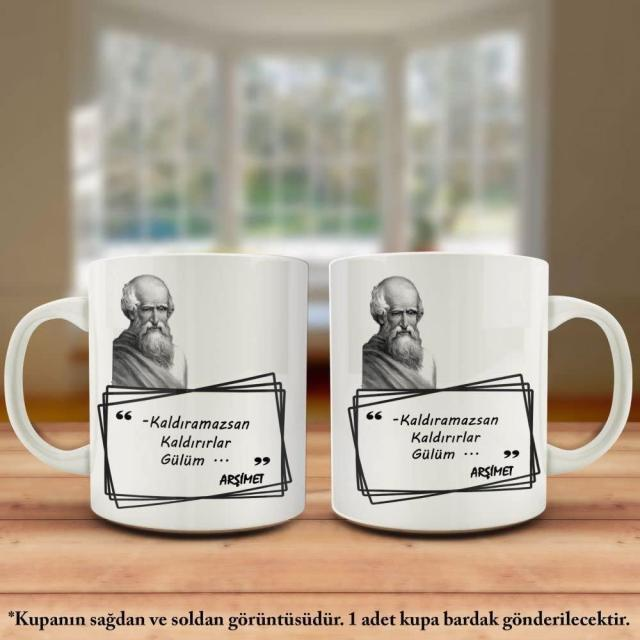Coffee Mug: (329, 249, 633, 537), (4, 252, 306, 535)
